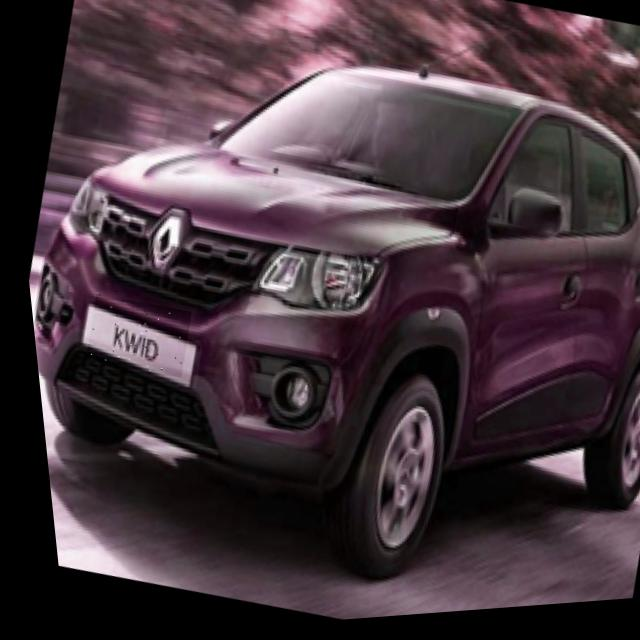license_plate: (72, 289, 189, 385)
